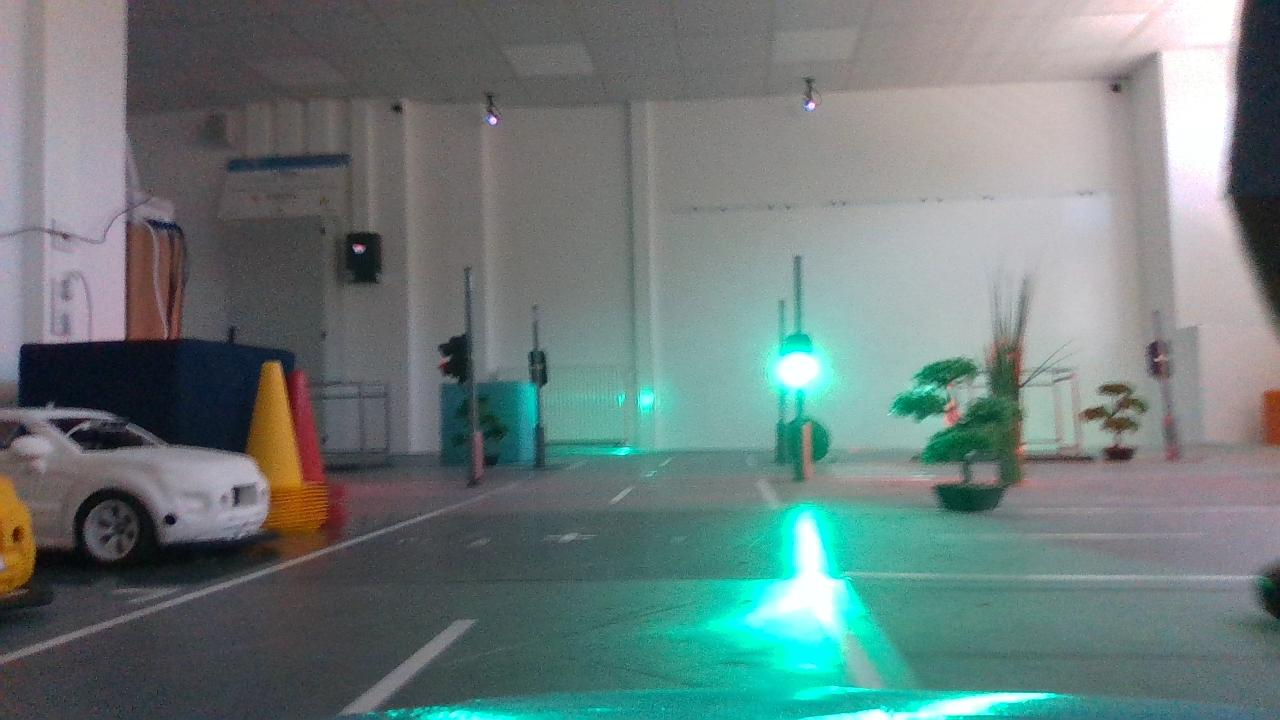traffic_light_green: (777, 323, 820, 394)
